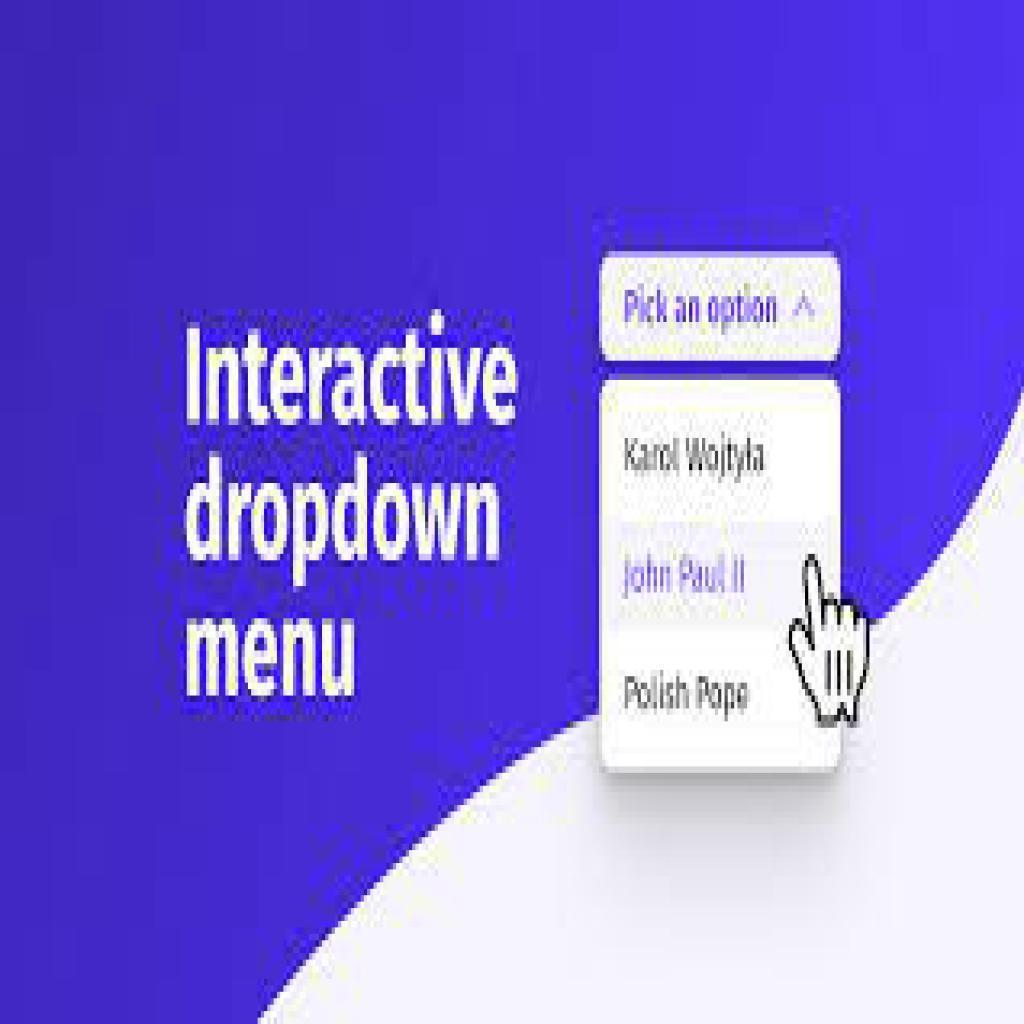dropdown: (601, 253, 841, 362)
